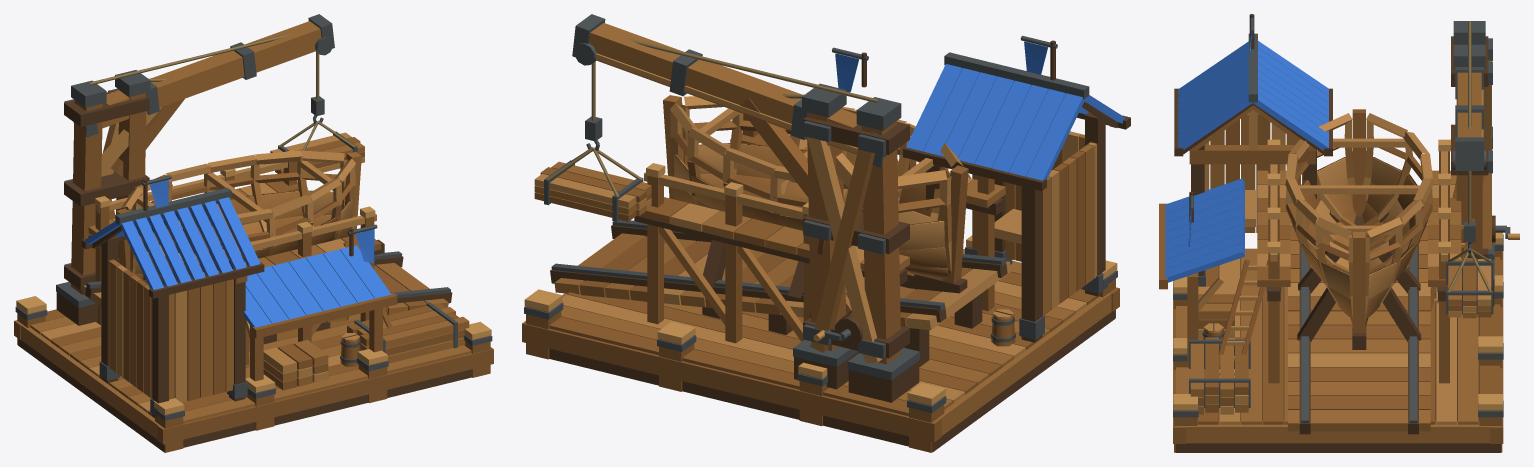
The picture shows the model from 3 angles, left to right: view 1: azimuth 30°, elevation 25°; view 2: azimuth 150°, elevation 25°; view 3: azimuth 270°, elevation 25°; orthographic projection. The views are drawn at different scales.
Parts seen in each view (by area): view 1: Wooden shipyard dock; view 2: Wooden shipyard dock; view 3: Wooden shipyard dock.
Boxes of the visible parts, x1,y1,x2,y2 form: Wooden shipyard dock: (14, 14, 493, 452); Wooden shipyard dock: (522, 14, 1130, 452); Wooden shipyard dock: (1159, 14, 1519, 452).
Bounding box in the file's own units: 2.25 × 1.6 × 1.78.
